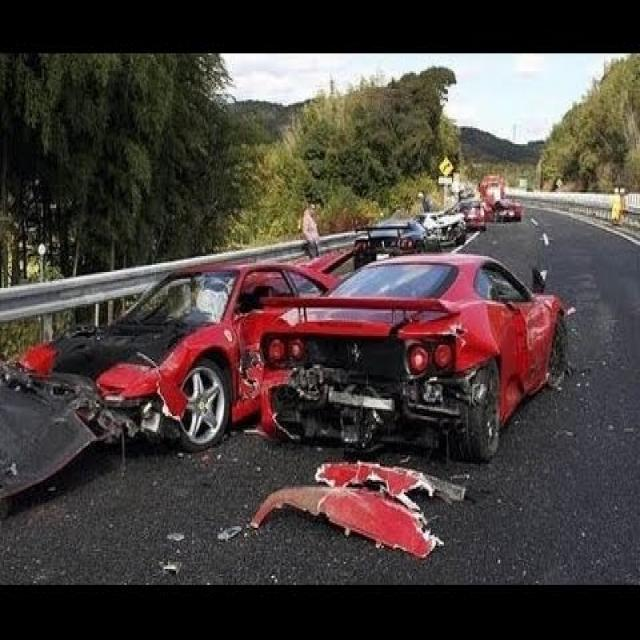accident: (66, 248, 563, 479)
